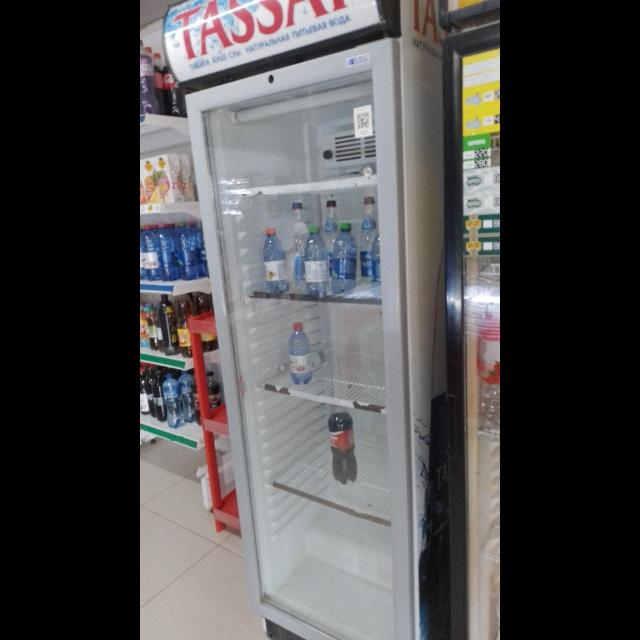Cooling-Display: (164, 1, 414, 640)
